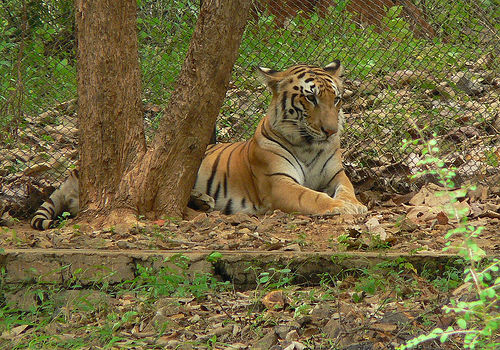Tigre: (252, 55, 364, 227)
